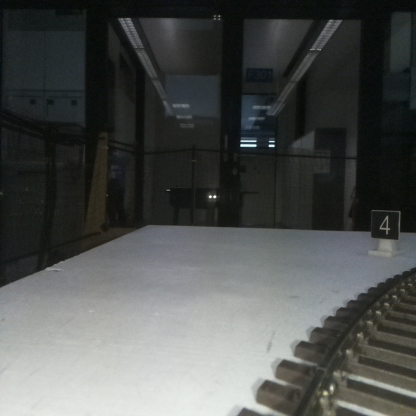black-stop-4: (371, 211, 399, 255)
